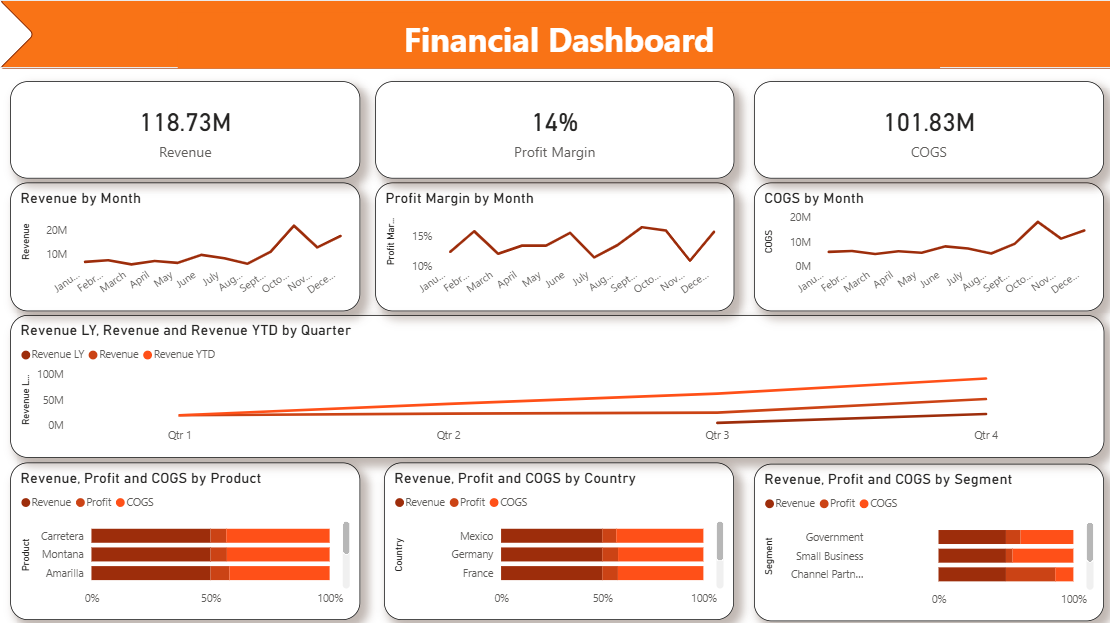

This screenshot's page, from the dashboard's own definition file:
{"tool":"powerbi","page":{"name":"Financial Dashboard","canvas":[1280,720],"ordinal":0},"visuals":[{"type":"shape","box":[0,0,1280,720],"z":0},{"type":"card","fields":{"Values":["Measures (2).Revenue"]},"box":[12.9,92.9,400,111.4],"z":1000},{"type":"lineChart","fields":{"Category":["Dim_Date.Date.Variation.Date Hierarchy.Year","Dim_Date.Date.Variation.Date Hierarchy.Quarter","Dim_Date.Date.Variation.Date Hierarchy.Month","Dim_Date.Date.Variation.Date Hierarchy.Day"],"Y":["Measures (2).Revenue"]},"box":[12.9,208.6,400,147.1],"z":2000},{"type":"lineChart","fields":{"Category":["Dim_Date.Date.Variation.Date Hierarchy.Year","Dim_Date.Date.Variation.Date Hierarchy.Quarter","Dim_Date.Date.Variation.Date Hierarchy.Month","Dim_Date.Date.Variation.Date Hierarchy.Day"],"Y":["Measures (2).Profit Margin"]},"box":[430,208.6,410,147.1],"z":3000},{"type":"lineChart","fields":{"Category":["Dim_Date.Date.Variation.Date Hierarchy.Year","Dim_Date.Date.Variation.Date Hierarchy.Quarter","Dim_Date.Date.Variation.Date Hierarchy.Month","Dim_Date.Date.Variation.Date Hierarchy.Day"],"Y":["Measures (2).COGS"]},"box":[862.9,208.6,400,147.1],"z":4000},{"type":"lineChart","fields":{"Y":["Measures (2).Revenue LY","Measures (2).Revenue","Measures (2).Revenue YTD"],"Category":["Dim_Date.Date.Variation.Date Hierarchy.Year","Dim_Date.Date.Variation.Date Hierarchy.Quarter","Dim_Date.Date.Variation.Date Hierarchy.Month","Dim_Date.Date.Variation.Date Hierarchy.Day"]},"box":[12.9,360,1250,162.9],"z":5000},{"type":"shape","box":[0,0,1460,78.6],"z":6000},{"type":"card","fields":{"Values":["Measures (2).Profit Margin"]},"box":[430,92.9,410,111.4],"z":7000},{"type":"card","fields":{"Values":["Measures (2).COGS"]},"box":[862.9,92.9,400,111.4],"z":8000},{"type":"hundredPercentStackedBarChart","fields":{"Category":["financials.Country"],"Y":["Measures (2).Revenue","Measures (2).Profit","Measures (2).COGS"]},"box":[440,528.7,400,180],"z":9000},{"type":"hundredPercentStackedBarChart","fields":{"Y":["Measures (2).Revenue","Measures (2).Profit","Measures (2).COGS"],"Category":["financials.Product"]},"box":[12.9,528.6,400,180],"z":10000},{"type":"hundredPercentStackedBarChart","fields":{"Y":["Measures (2).Revenue","Measures (2).Profit","Measures (2).COGS"],"Category":["financials.Segment"]},"box":[862.9,530,400,180],"z":11000},{"type":"textbox","box":[204.3,14.3,871.4,64.3],"z":12000}]}

Visuals, with their boxes in screenshot pixels (x1, y1, x2, y2), scaled from the page's 1280x720 canvas onto the 1110x623 screenshot:
shape: BBox(0, 0, 1109, 622)
card - Measures (2).Revenue: BBox(11, 80, 358, 177)
lineChart - Dim_Date.Date.Variation.Date Hierarchy.Year x Dim_Date.Date.Variation.Date Hierarchy.Quarter: BBox(11, 180, 358, 308)
lineChart - Dim_Date.Date.Variation.Date Hierarchy.Year x Dim_Date.Date.Variation.Date Hierarchy.Quarter: BBox(373, 180, 728, 308)
lineChart - Dim_Date.Date.Variation.Date Hierarchy.Year x Dim_Date.Date.Variation.Date Hierarchy.Quarter: BBox(748, 180, 1095, 308)
lineChart - Measures (2).Revenue LY x Measures (2).Revenue: BBox(11, 312, 1095, 452)
shape: BBox(0, 0, 1109, 68)
card - Measures (2).Profit Margin: BBox(373, 80, 728, 177)
card - Measures (2).COGS: BBox(748, 80, 1095, 177)
hundredPercentStackedBarChart - financials.Country x Measures (2).Revenue: BBox(382, 457, 728, 613)
hundredPercentStackedBarChart - Measures (2).Revenue x Measures (2).Profit: BBox(11, 457, 358, 613)
hundredPercentStackedBarChart - Measures (2).Revenue x Measures (2).Profit: BBox(748, 459, 1095, 614)
textbox: BBox(177, 12, 933, 68)
